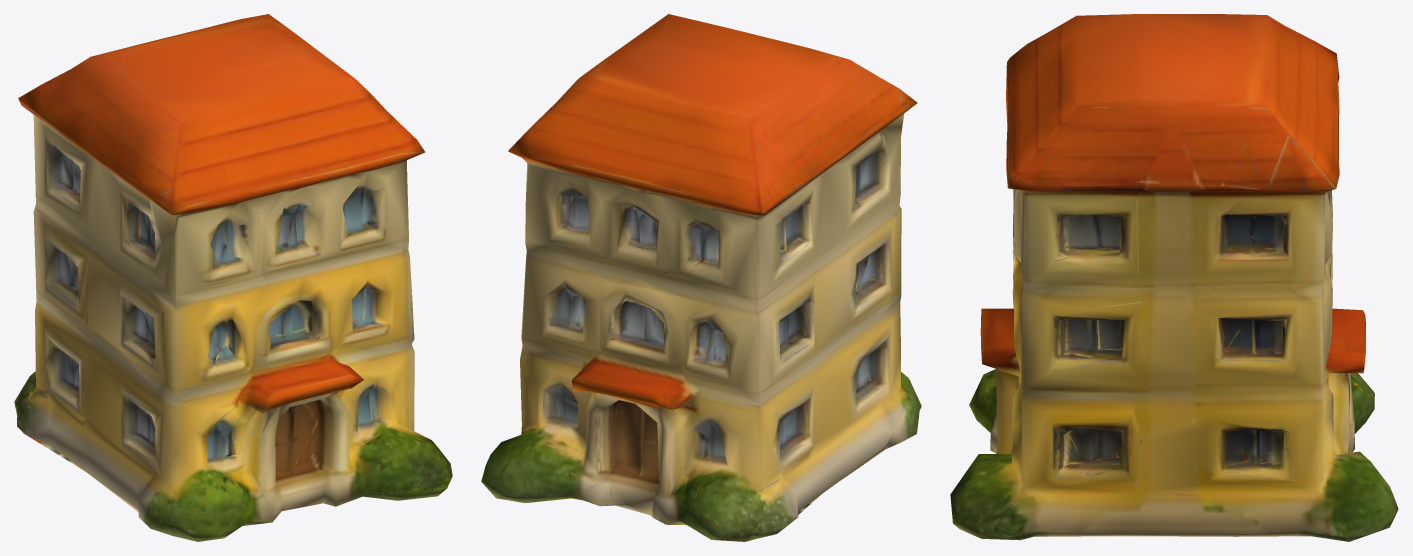
The model's file is building mid1.fbx.
The picture shows the model from 3 angles, left to right: view 1: azimuth 30°, elevation 25°; view 2: azimuth 150°, elevation 25°; view 3: azimuth 270°, elevation 25°; orthographic projection. The views are drawn at different scales.
Visible parts, largest first — view 1: building mid; view 2: building mid; view 3: building mid.
Boxes of the visible parts, x1,y1,x2,y2 form: building mid: (14,14,452,541); building mid: (481,14,921,541); building mid: (950,14,1398,541).
Bounding box in the file's own units: 227 × 291 × 288.
